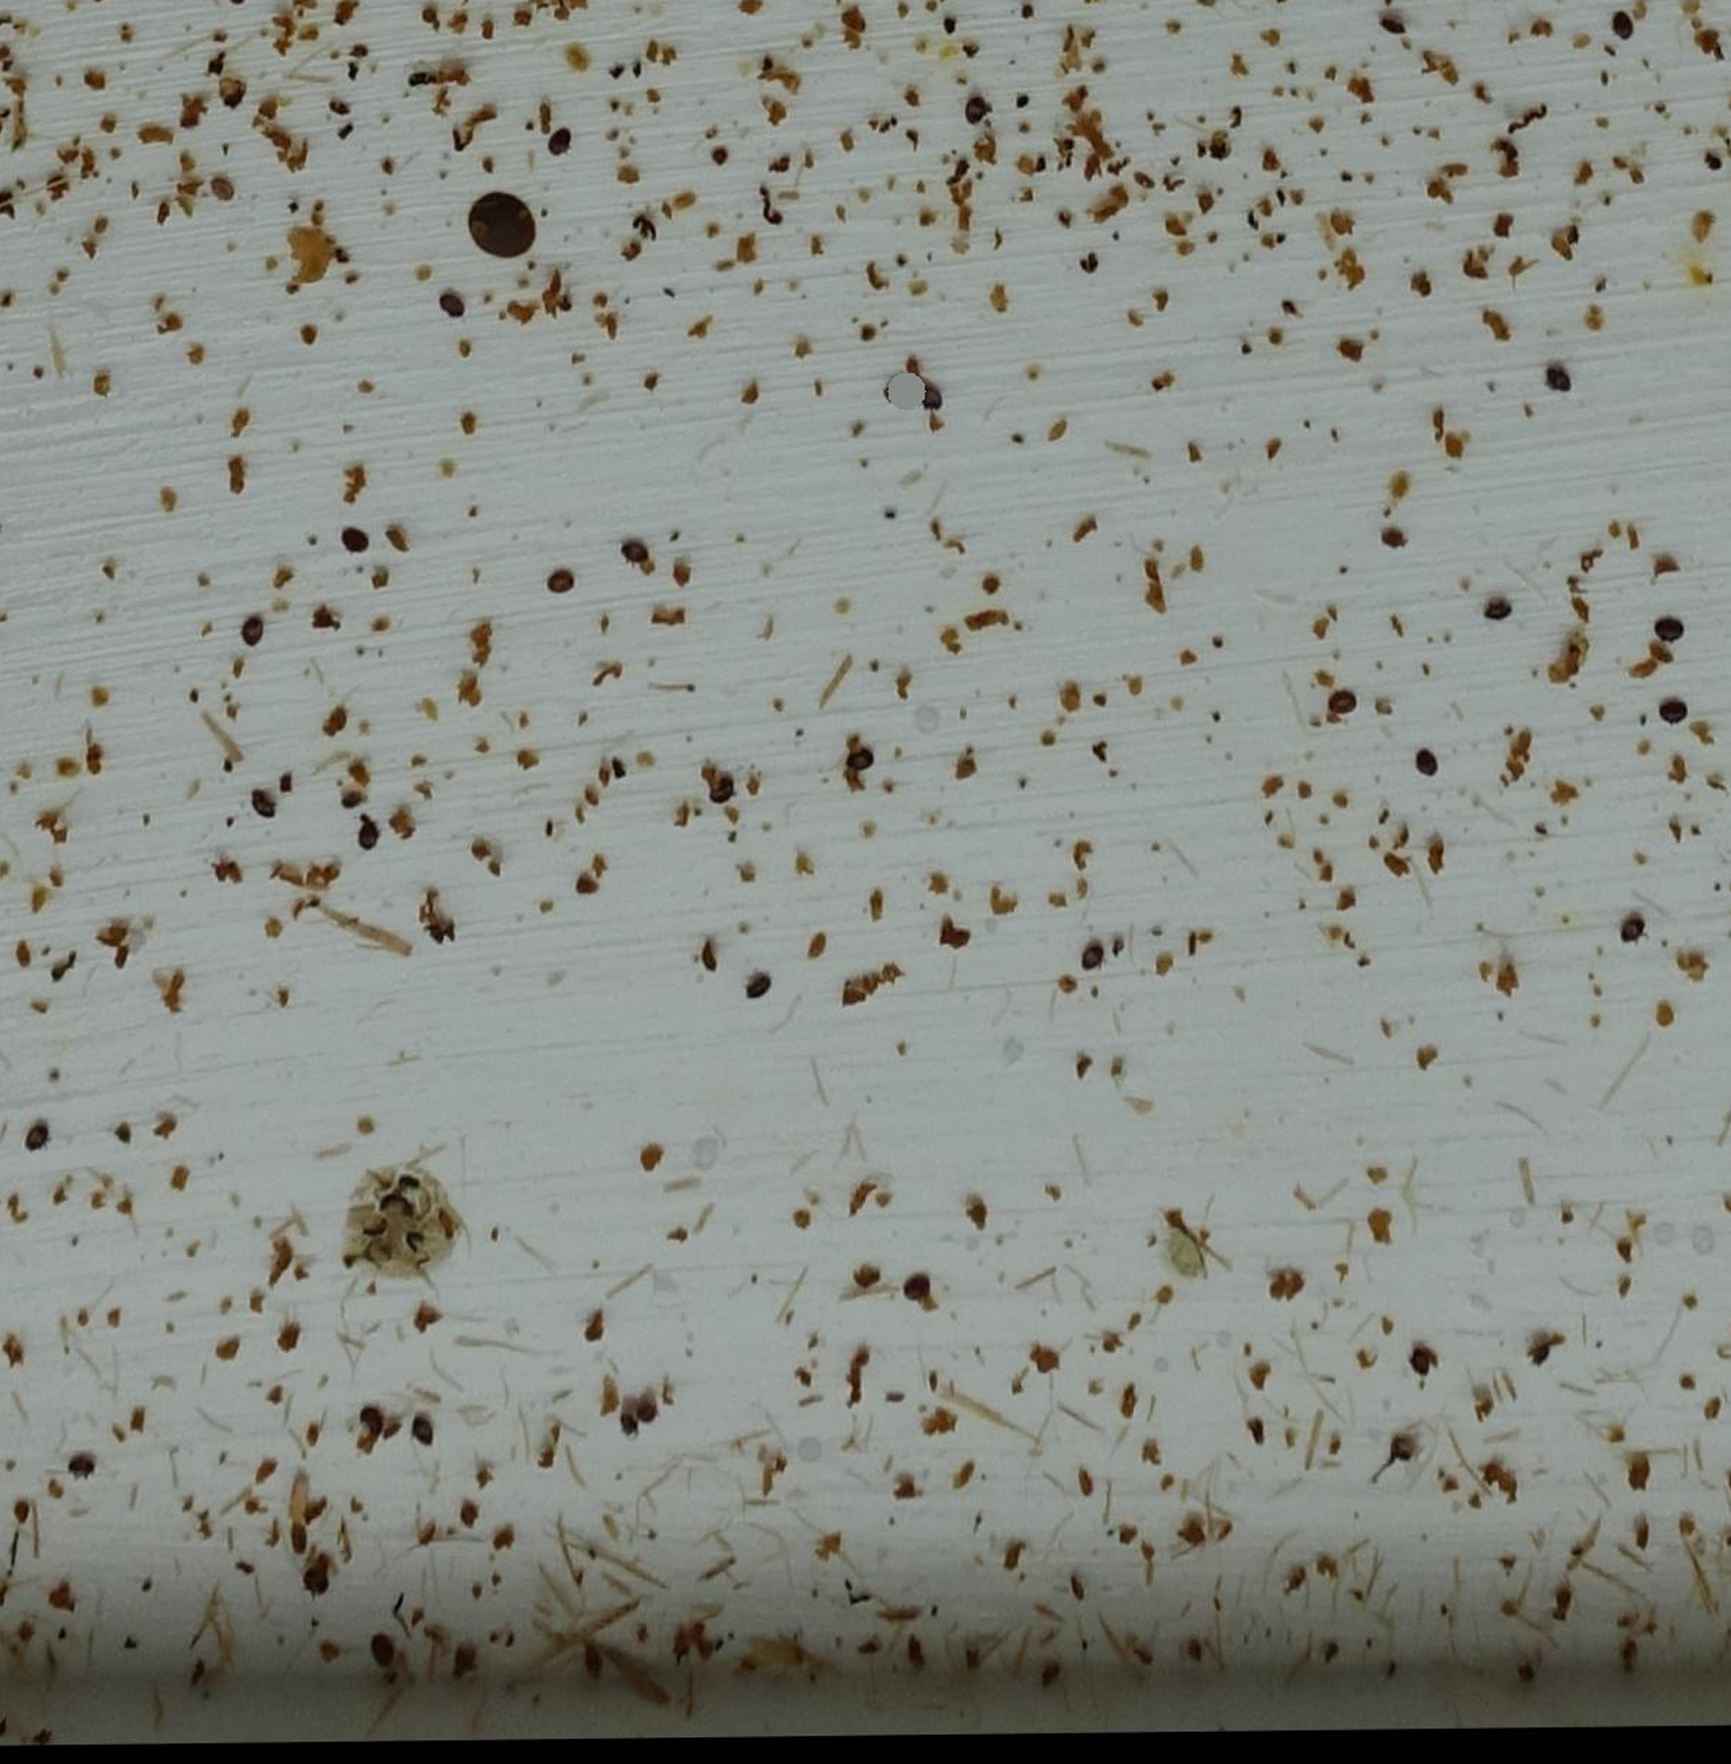Varroa: (625, 1387, 667, 1430), (737, 973, 775, 1008), (845, 743, 881, 778), (910, 384, 945, 417), (542, 556, 572, 594), (1652, 620, 1683, 655), (620, 537, 652, 571), (1477, 594, 1509, 628), (67, 1447, 98, 1479), (902, 1274, 932, 1308), (1660, 697, 1690, 731), (1327, 689, 1357, 721), (710, 778, 740, 810), (1075, 945, 1105, 976), (341, 523, 371, 555), (361, 1409, 392, 1441), (544, 130, 572, 162), (1611, 8, 1639, 40), (1411, 745, 1439, 777), (373, 1632, 401, 1664), (403, 1414, 431, 1445), (1617, 914, 1645, 945), (1546, 366, 1574, 396), (441, 292, 469, 322), (208, 174, 236, 204), (239, 617, 268, 647), (22, 1125, 51, 1155), (252, 788, 281, 818), (303, 1563, 330, 1594), (1408, 1352, 1435, 1380), (357, 827, 384, 856), (964, 101, 991, 128)
